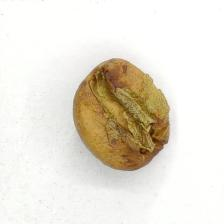NG: (88, 69, 166, 155)
